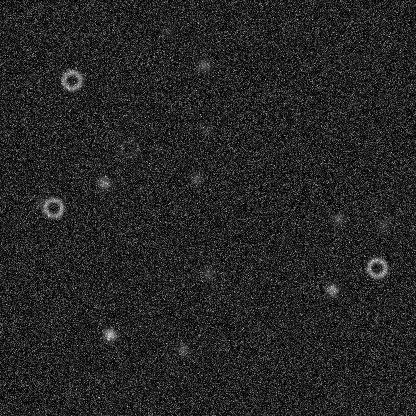Ring: (59, 68, 83, 92), (117, 136, 141, 160), (364, 255, 388, 279), (41, 195, 65, 219)
Spot: (195, 57, 211, 73), (32, 192, 48, 208), (175, 341, 191, 357), (375, 216, 391, 232), (323, 281, 339, 297), (188, 170, 204, 186), (160, 22, 176, 38), (329, 210, 345, 226), (150, 140, 166, 156), (198, 120, 214, 136), (199, 265, 215, 281), (101, 326, 117, 342), (96, 174, 112, 190)
